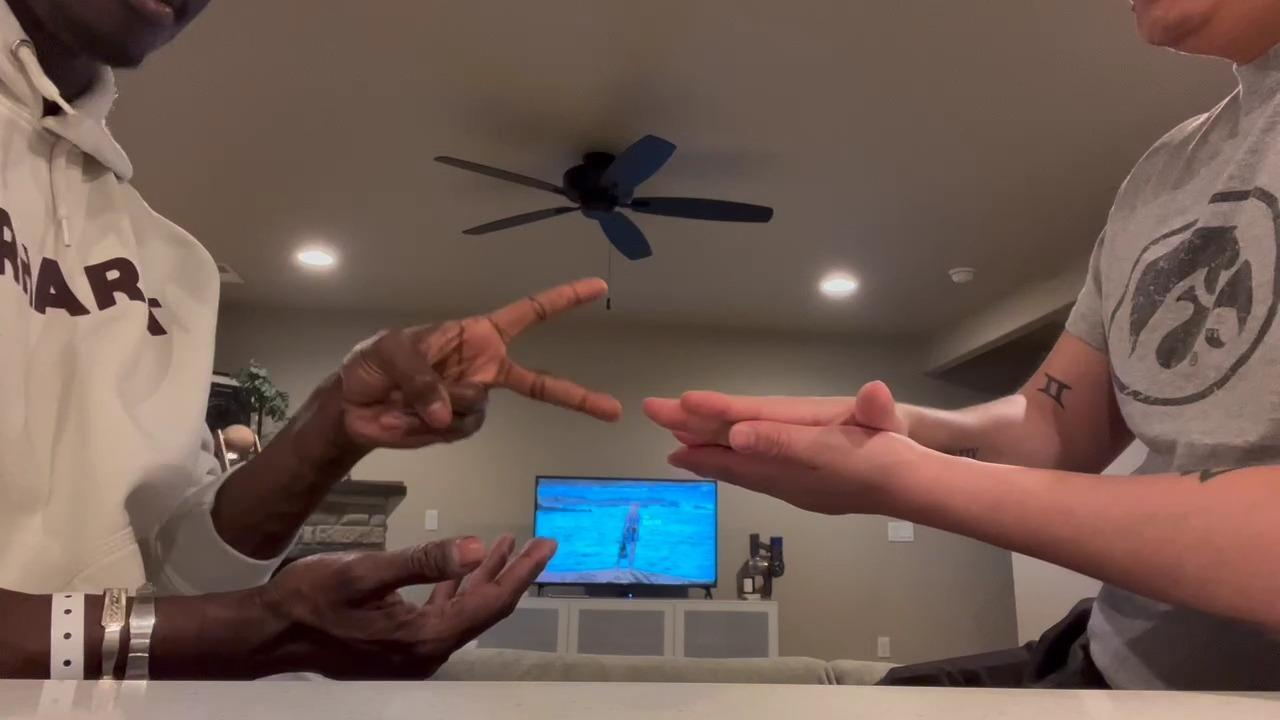Paper: (640, 377, 909, 449)
Scissors: (330, 273, 622, 465)
